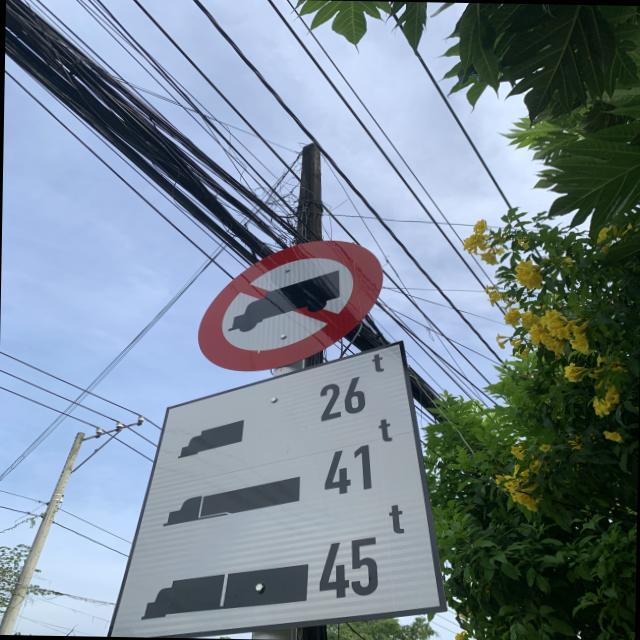Cam_Xe_Tai: (198, 237, 382, 376)
